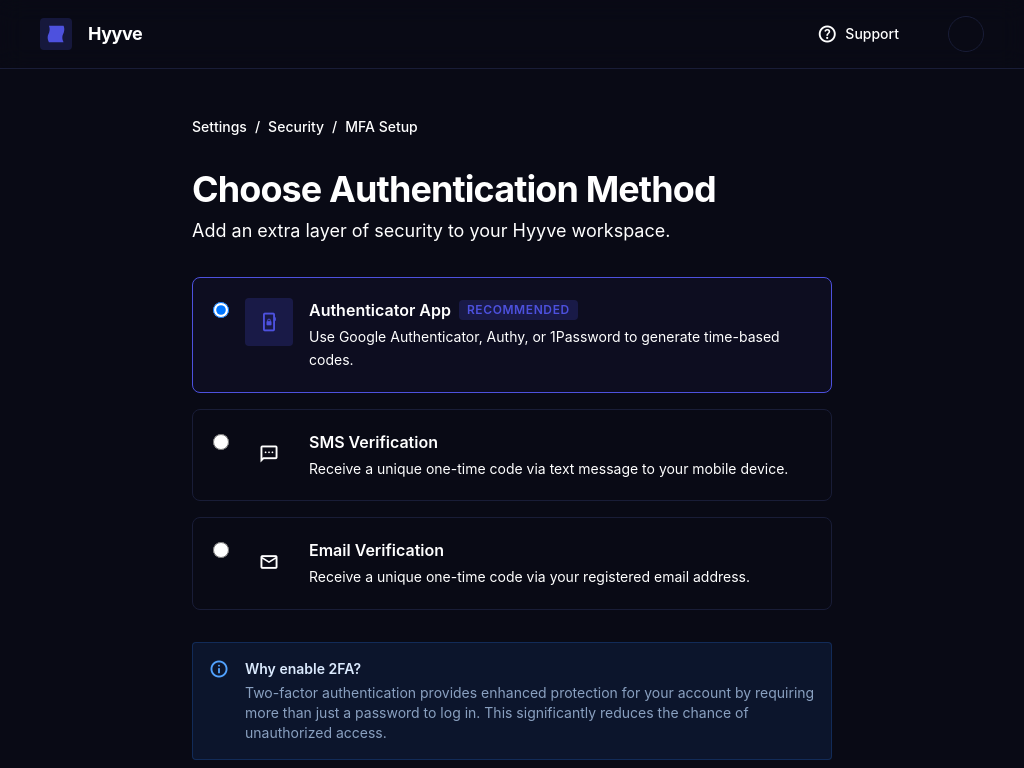
Scenario: MfaMethodSelection › Selection State Management › changes selection when clicking SMS option
Click the text "SMS Verification": [373, 442] box [192,408,832,501]
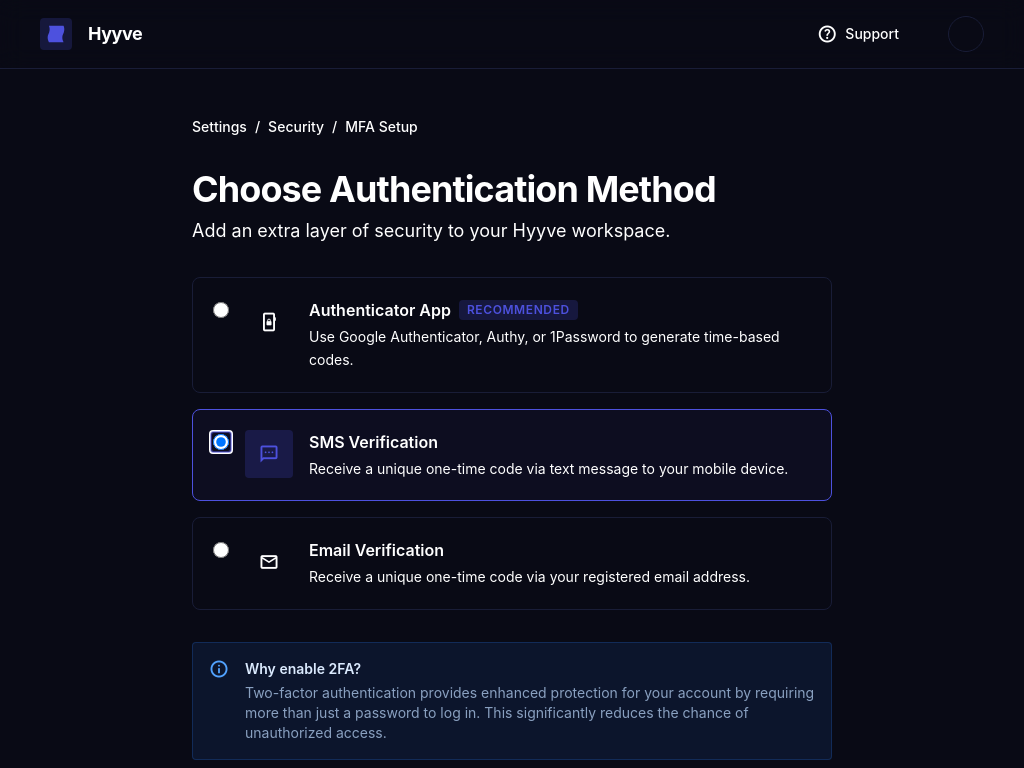
Expected: the radio button labelled "SMS Verification" is checked, [213,434,229,450]
Expected: the radio button labelled "Authenticator App" is not checked, [213,302,229,318]
